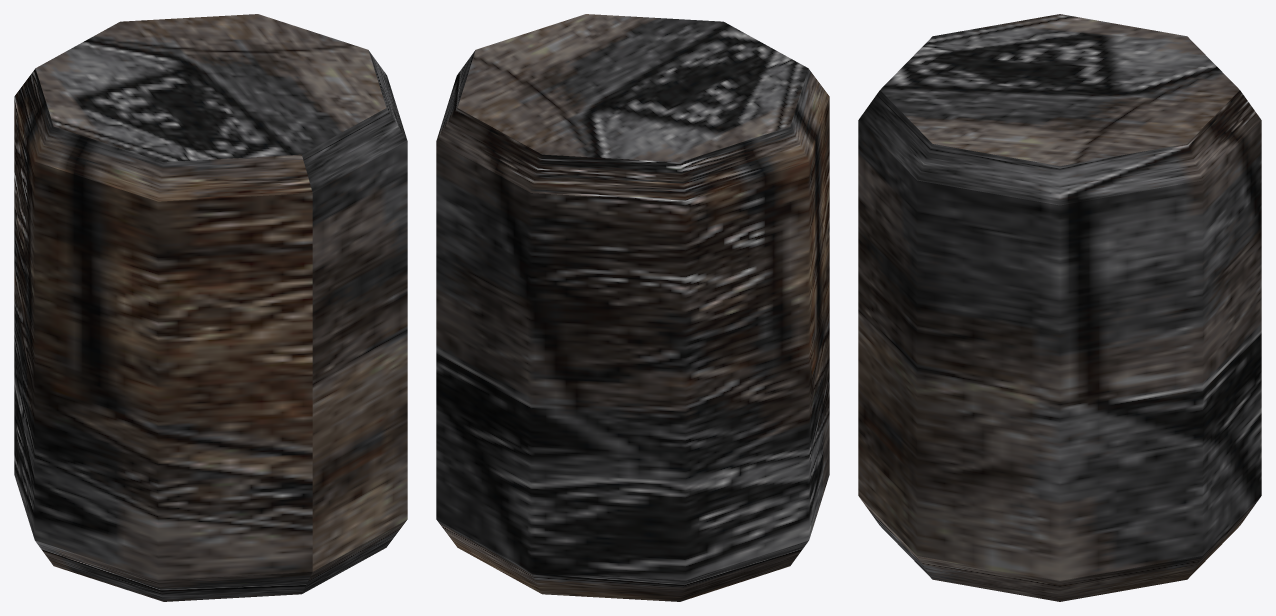
The picture shows the model from 3 angles, left to right: view 1: azimuth 30°, elevation 25°; view 2: azimuth 150°, elevation 25°; view 3: azimuth 270°, elevation 25°; orthographic projection.
Parts seen in each view (by area): view 1: SMDImport; view 2: SMDImport; view 3: SMDImport.
Part boxes in pixels (x1=…): SMDImport: x1=14, y1=14, x2=407, y2=601; SMDImport: x1=436, y1=14, x2=829, y2=601; SMDImport: x1=858, y1=14, x2=1261, y2=601.
Size of the model in its own units: 95.73 by 114 by 95.73.
